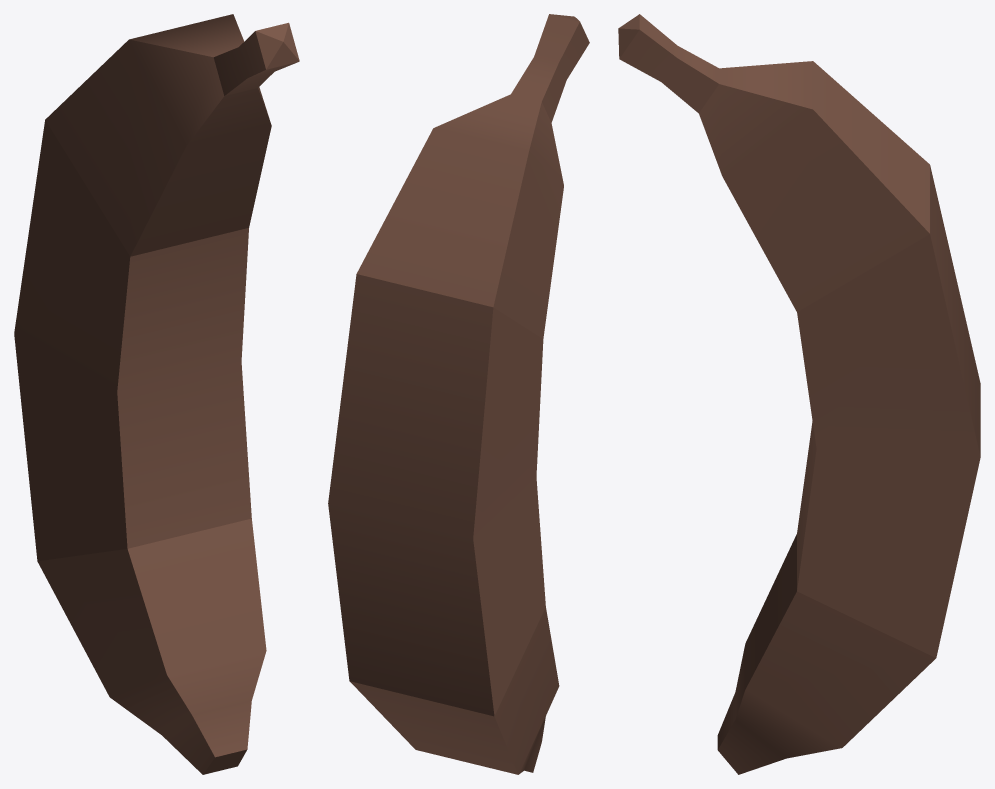
The model's file is Banana.gltf.
3 renders of one model, left to right at view 1: azimuth 30°, elevation 25°; view 2: azimuth 150°, elevation 25°; view 3: azimuth 270°, elevation 25°, orthographic. The views are drawn at different scales.
Parts seen in each view (by area): view 1: pasted__pCube11 group; view 2: pasted__pCube11 group; view 3: pasted__pCube11 group.
Part boxes in pixels (bbox=[...]): pasted__pCube11 group: bbox=[14, 14, 299, 774]; pasted__pCube11 group: bbox=[328, 14, 589, 774]; pasted__pCube11 group: bbox=[618, 14, 980, 774].
Size of the model in its own units: 20.76 by 97.95 by 43.17.
